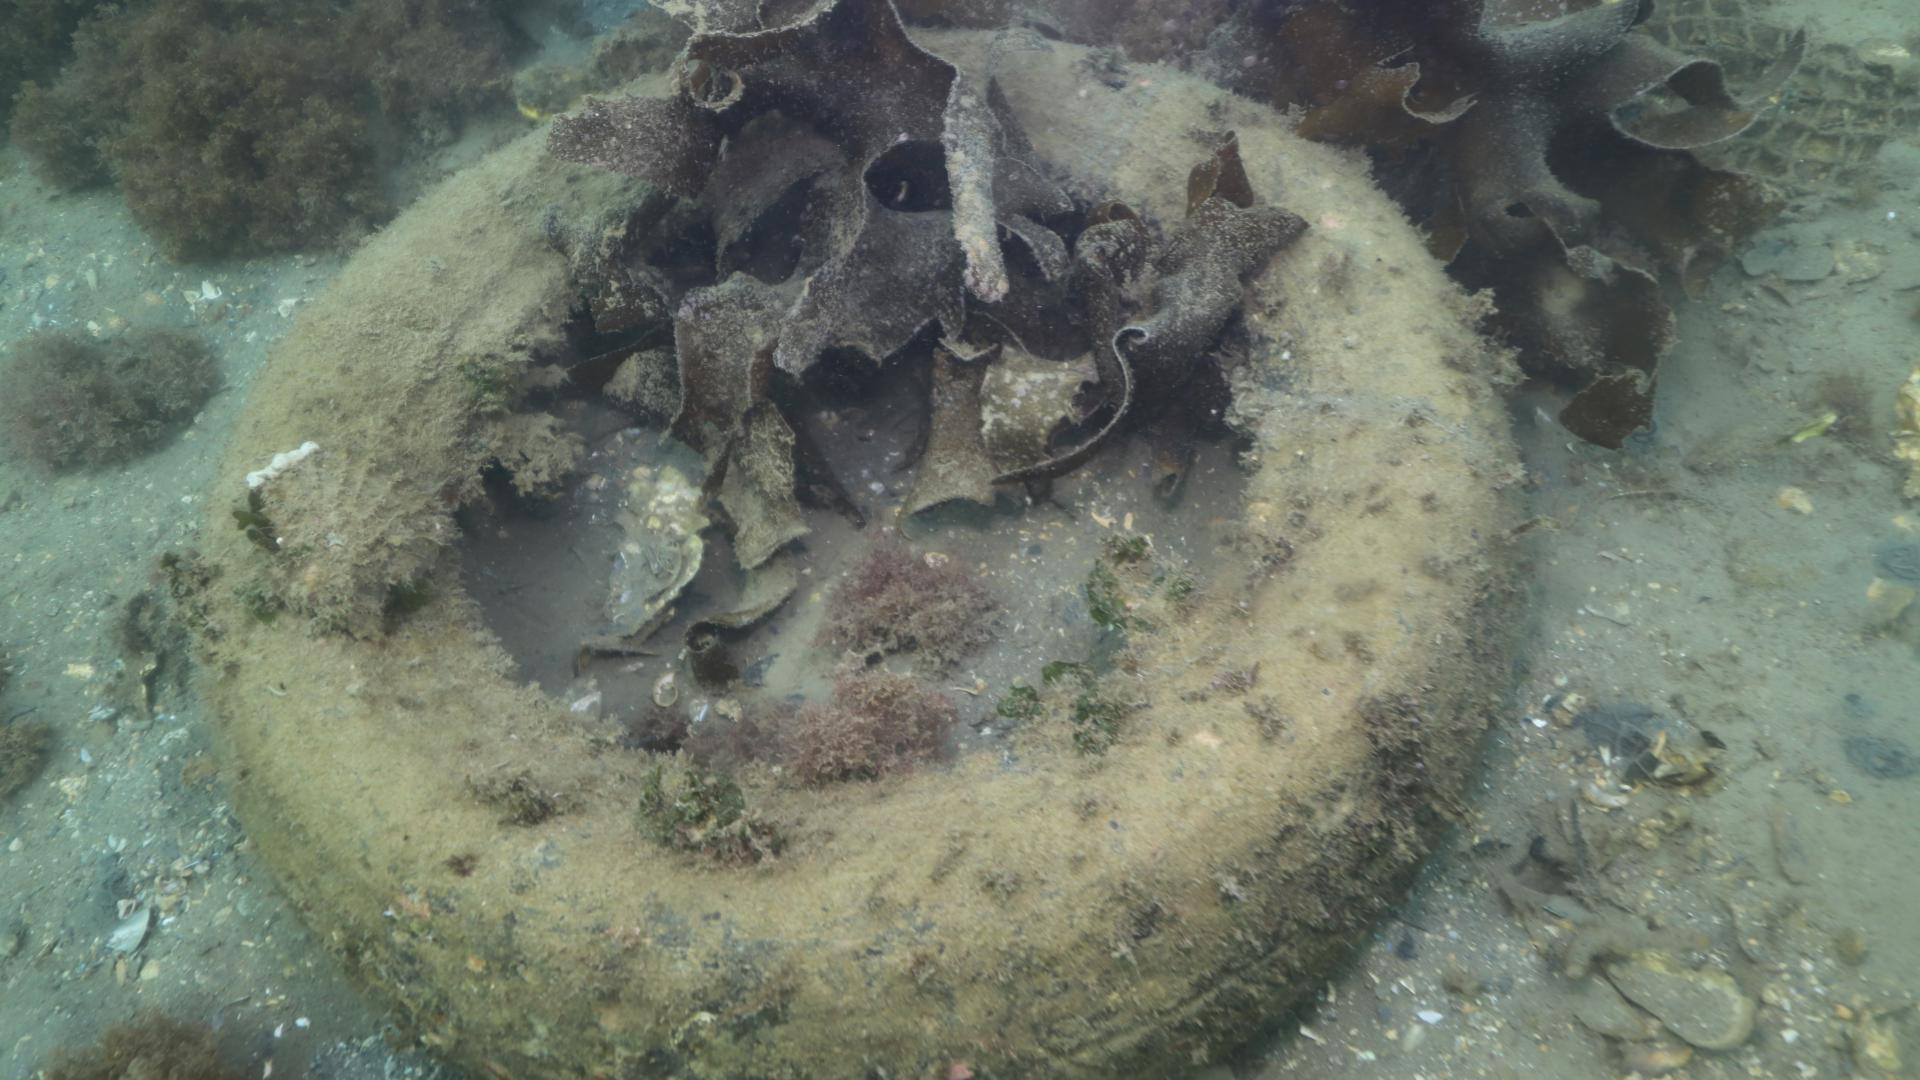tire: (194, 32, 1528, 1079)
